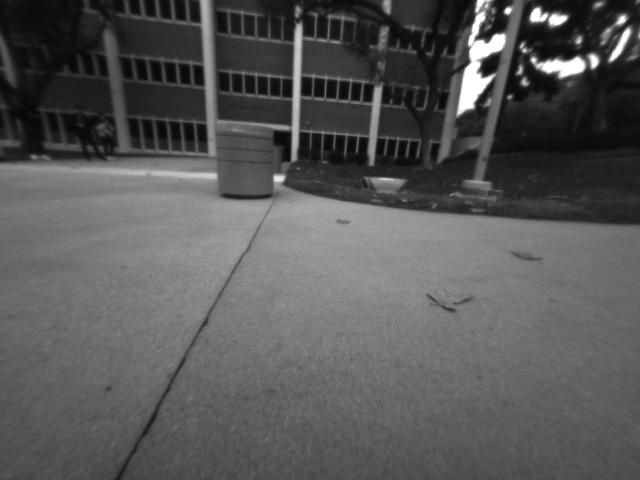trashcan: (211, 114, 275, 201)
